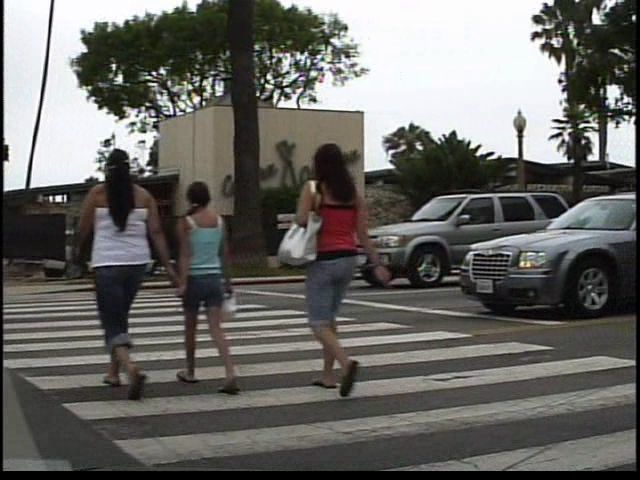person: (294, 132, 401, 400), (67, 141, 165, 401), (181, 174, 255, 399)
